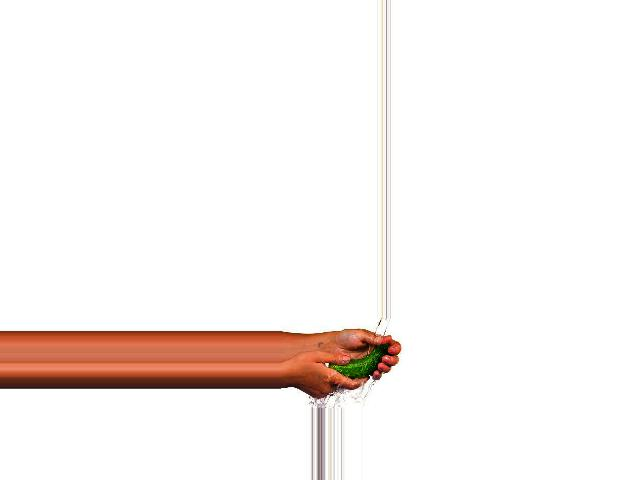cucumber: (327, 344, 389, 379)
